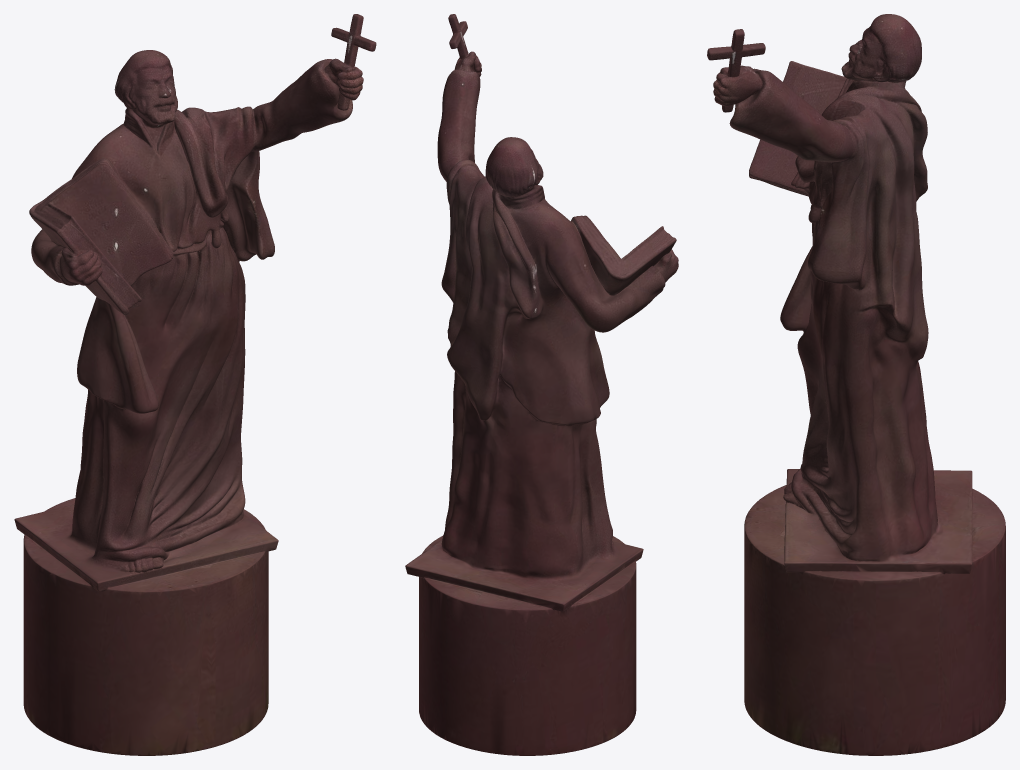
The model's file is San Ignacio de Loyola-mobile.glb.
3 views of the same model, side by side, from view 1: azimuth 30°, elevation 25°; view 2: azimuth 150°, elevation 25°; view 3: azimuth 270°, elevation 25° (orthographic). The views are drawn at different scales.
Size of the model in its own units: 0.8007 by 1.9 by 0.6889.
Materials: 1 (1 with a texture image).
